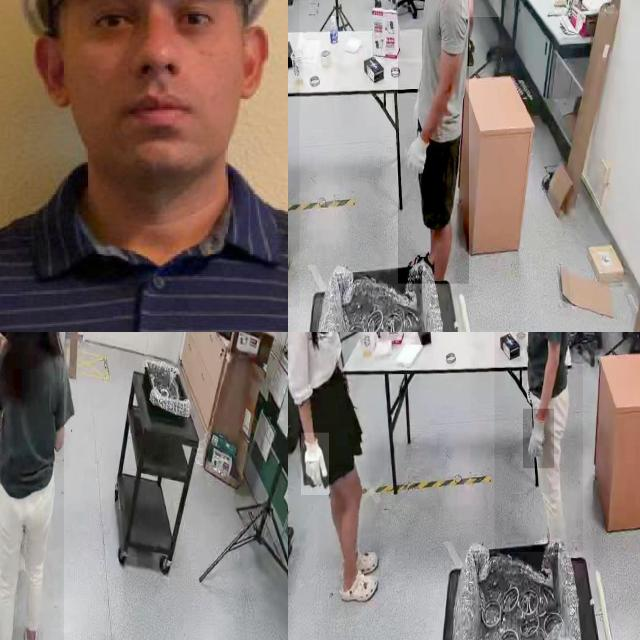No_Ear-Protection: (34, 33, 72, 108), (236, 22, 268, 100)
No_Glasses: (72, 0, 242, 59)
hand_glove: (523, 409, 555, 469), (301, 432, 329, 496), (406, 129, 432, 176)
person: (288, 332, 385, 616), (398, 0, 469, 284), (0, 332, 64, 640), (494, 332, 583, 553)
shoes: (20, 609, 41, 640)
